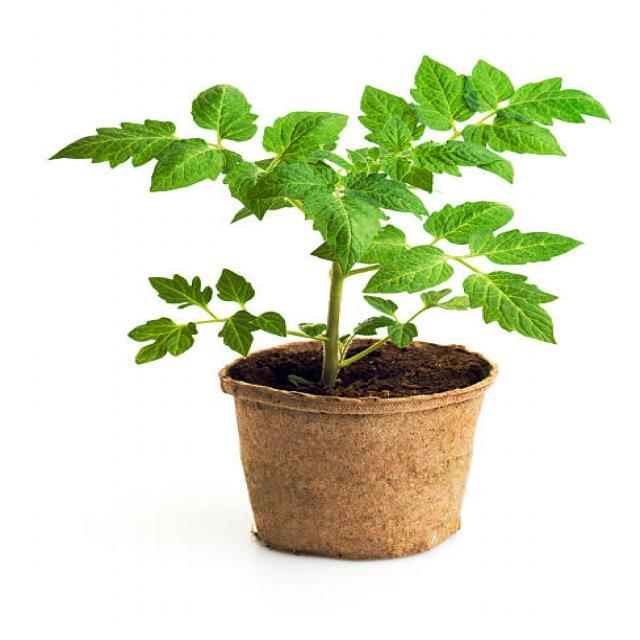tomato: (49, 56, 610, 395)
